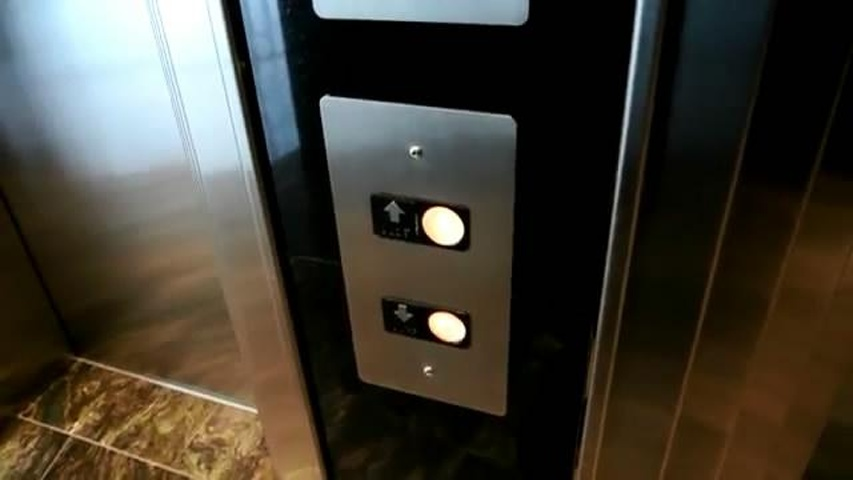down: (378, 291, 474, 353)
up: (367, 187, 474, 256)
